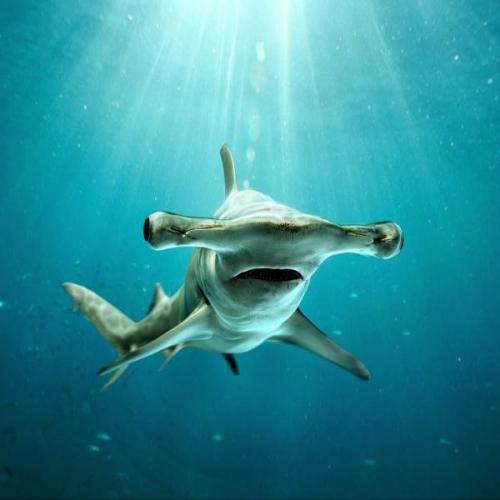shark-endangered: (60, 145, 405, 400)
